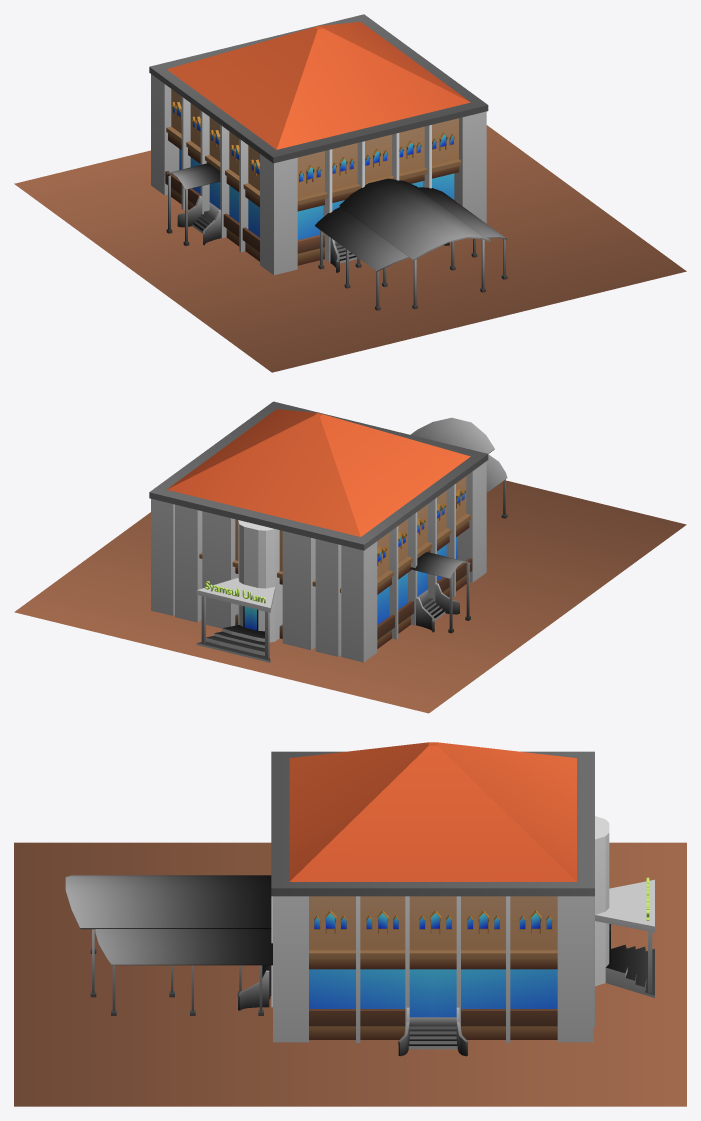
Rendered from Gedung MSU.fbx.
The picture shows the model from 3 angles, top to bottom: view 1: azimuth 30°, elevation 25°; view 2: azimuth 150°, elevation 25°; view 3: azimuth 270°, elevation 25°; orthographic projection. The views are drawn at different scales.
Visible parts, largest first — view 1: MSU; view 2: MSU; view 3: MSU.
Boxes of the visible parts, left/top/right/bottom form: MSU: left=14, top=14, right=686, bottom=372; MSU: left=14, top=401, right=686, bottom=713; MSU: left=14, top=742, right=686, bottom=1106.
Size of the model in its own units: 7283 by 2964 by 7845.
Materials: 1 (1 with a texture image).
